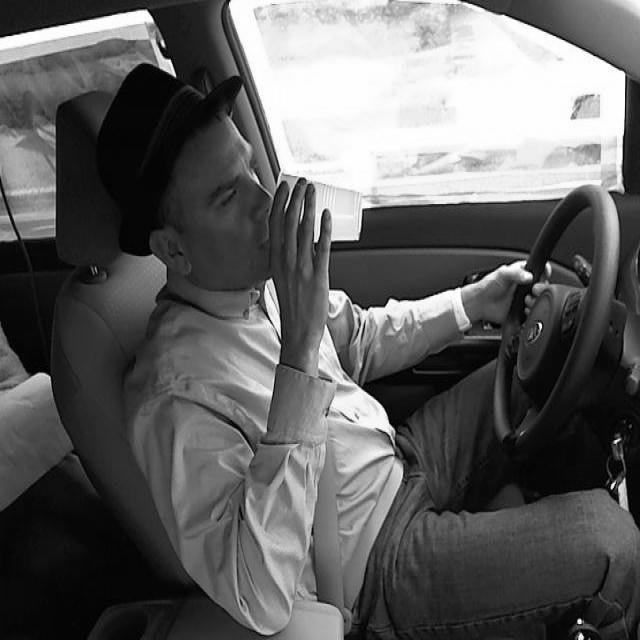Drinking: (277, 169, 365, 240)
